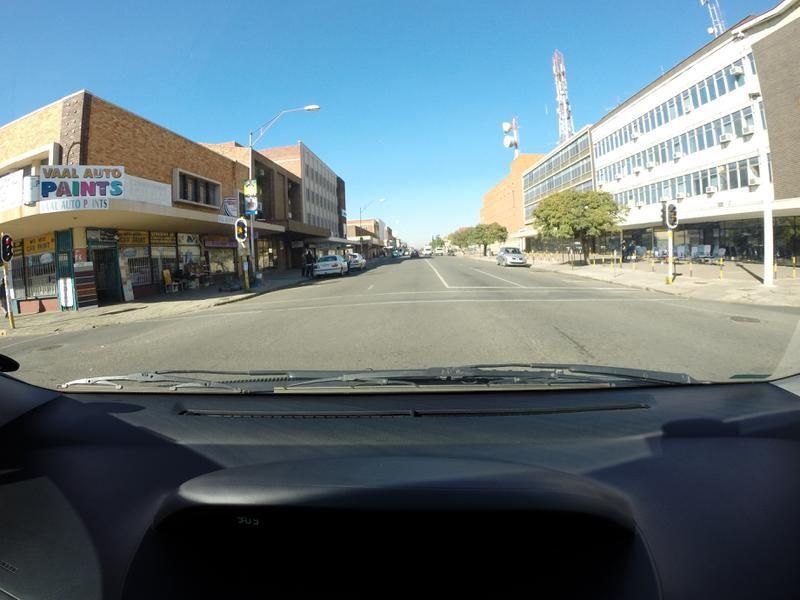pothole: (39, 344, 65, 354), (726, 317, 761, 321)
